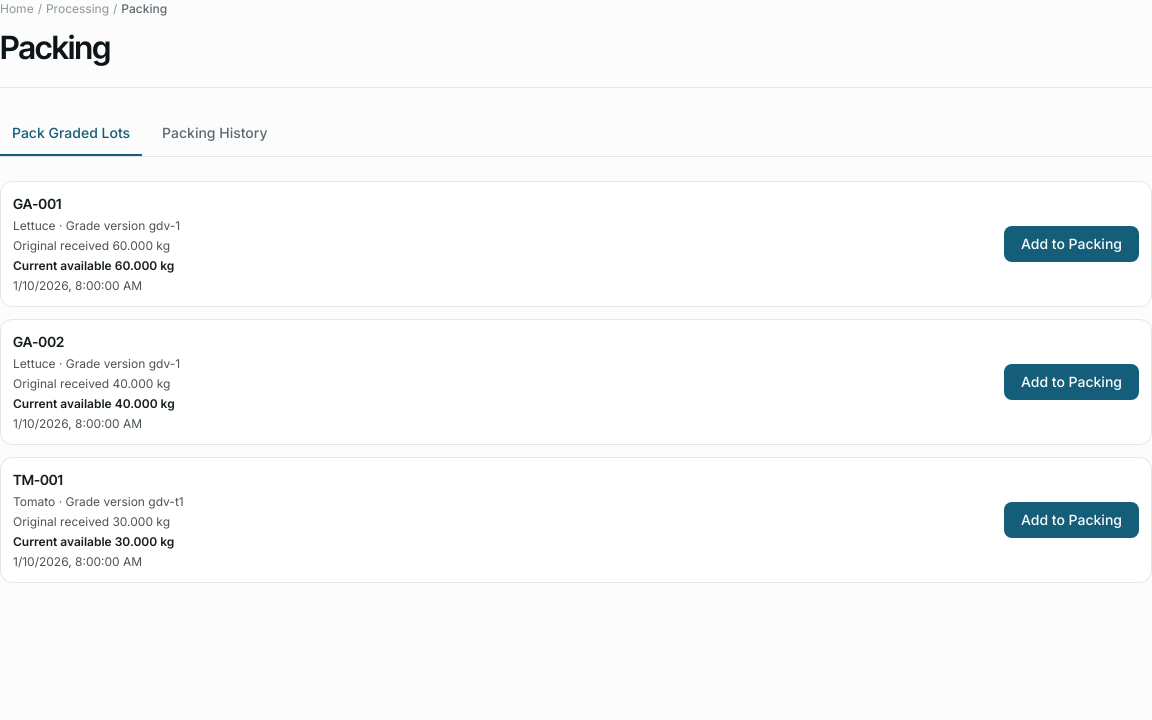
Test case: PackingPage reconciliation › 8. an incompatible (different-Crop) Graded Produce Lot cannot be added once the Packing is Crop-locked
Expected: the link "GA-001" is shown, [13,195,61,212]
Click the 1st button "Add to Packing": (1071, 244) [1004,226,1139,262]
(page scrolled)
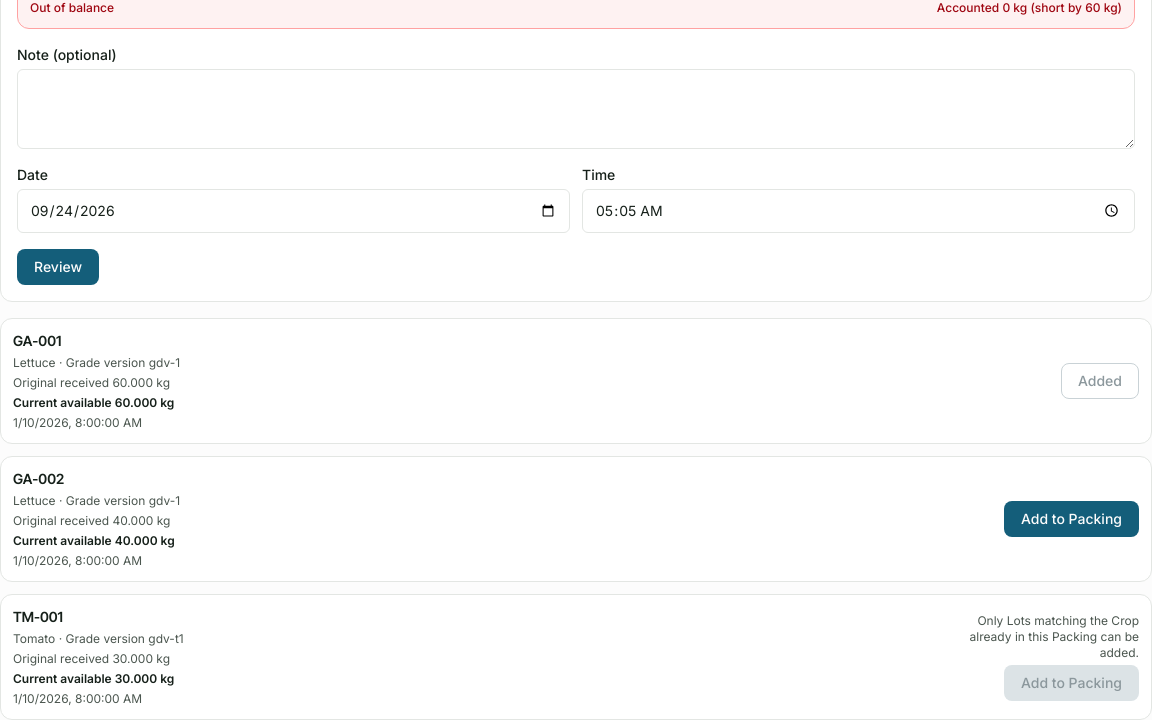
Expected: the link "TM-001" is shown, [13,608,63,625]
Expected: the 2nd button "Add to Packing" is disabled, [1004,665,1139,701]
Expected: the text "Only Lots matching the Crop already in this Packing can be added" is shown, [970,613,1139,660]
